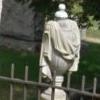Statue: (27, 0, 82, 92)
